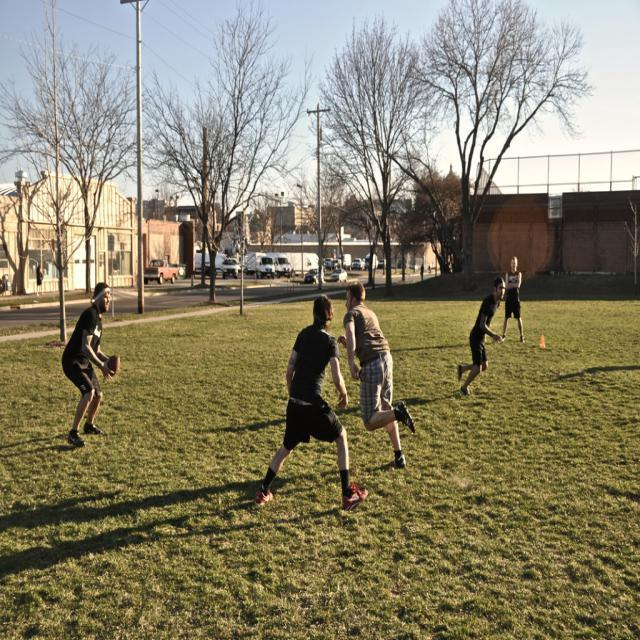ball: (106, 351, 119, 376)
